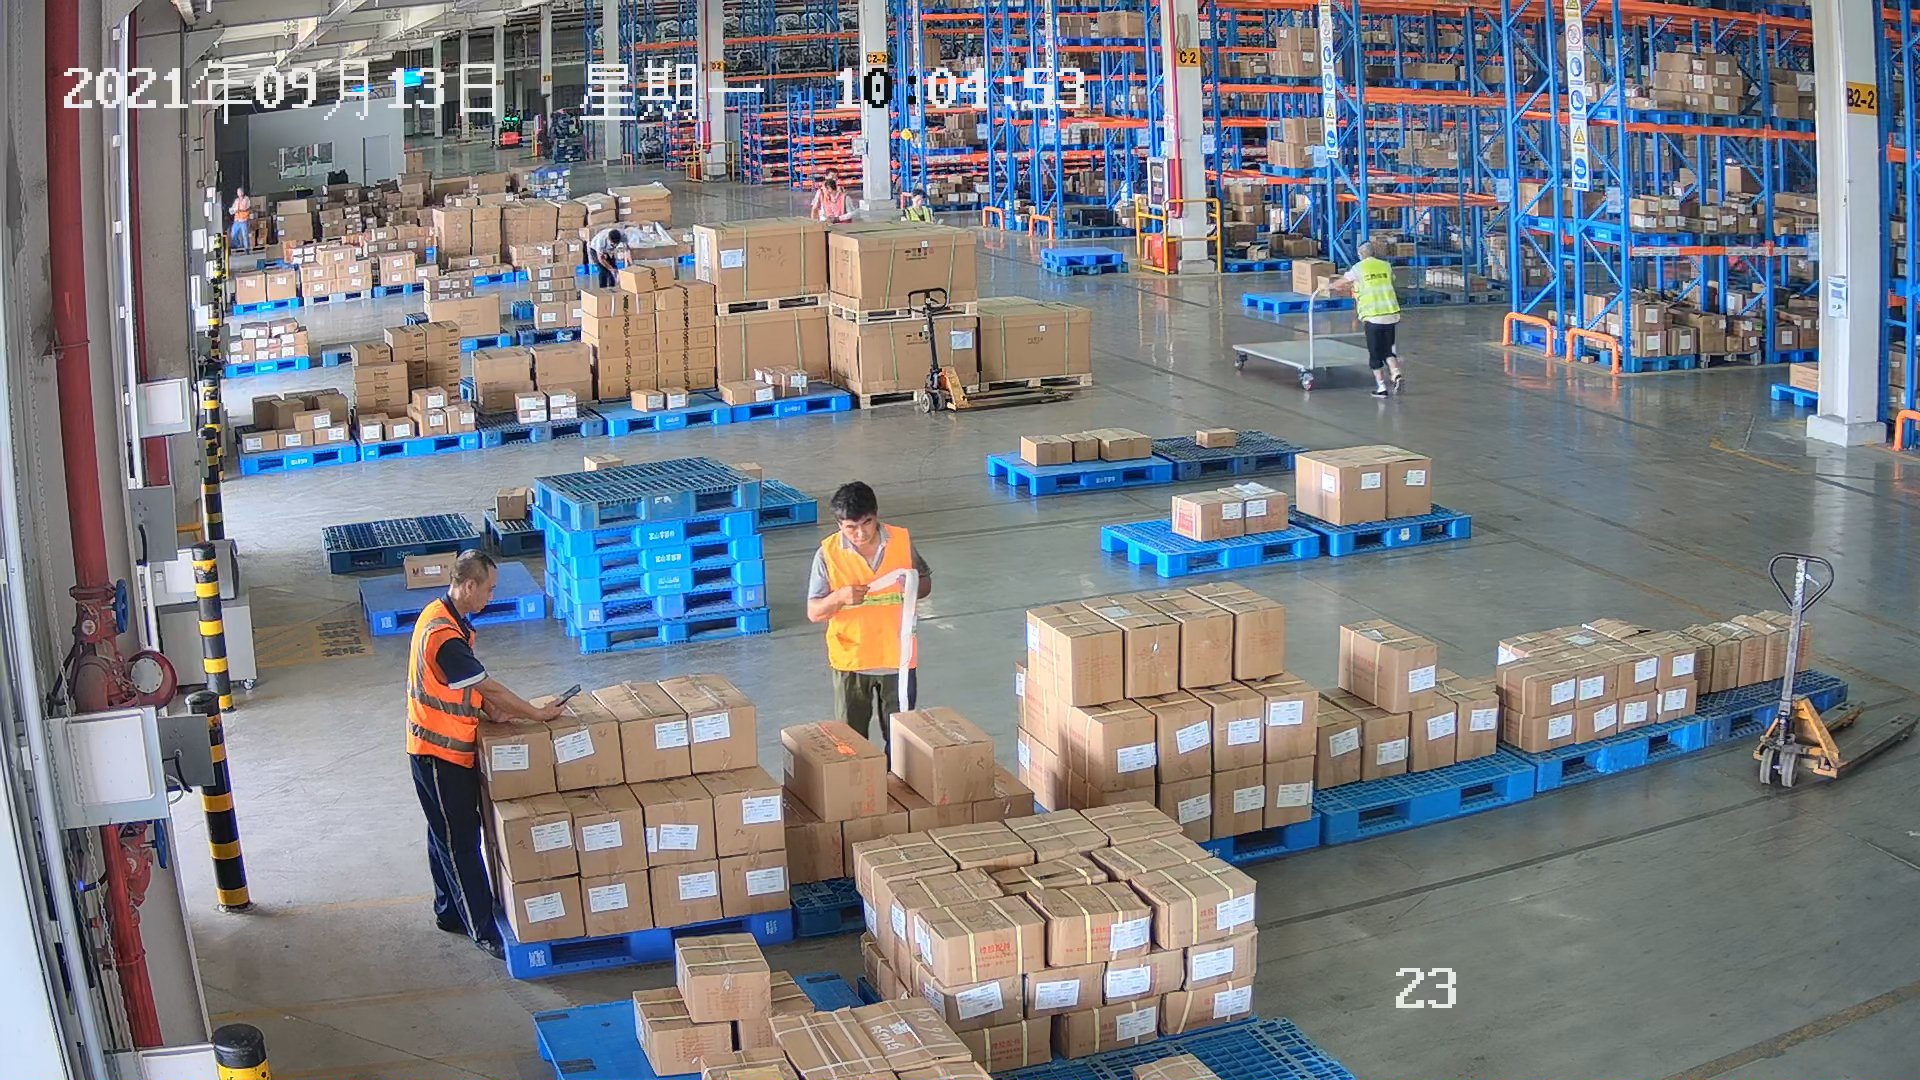hand: (832, 580, 870, 609), (536, 695, 568, 723)
person: (391, 543, 590, 961), (796, 478, 936, 772)
phone: (551, 679, 582, 706)
